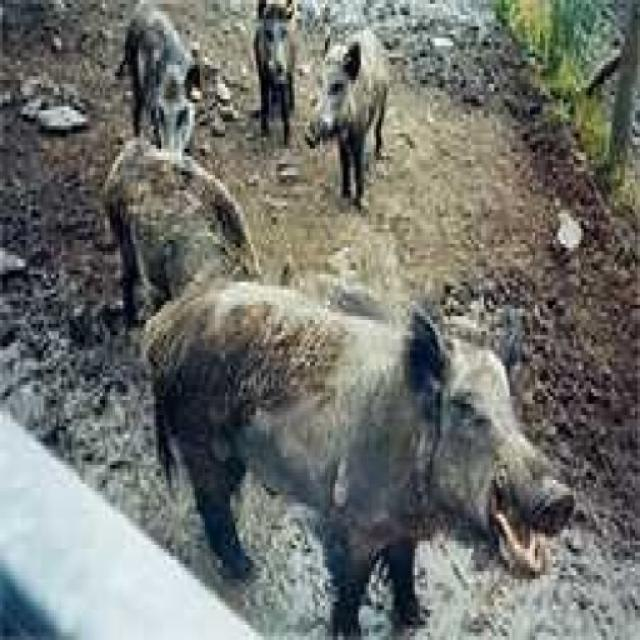pig: (88, 266, 640, 612)
